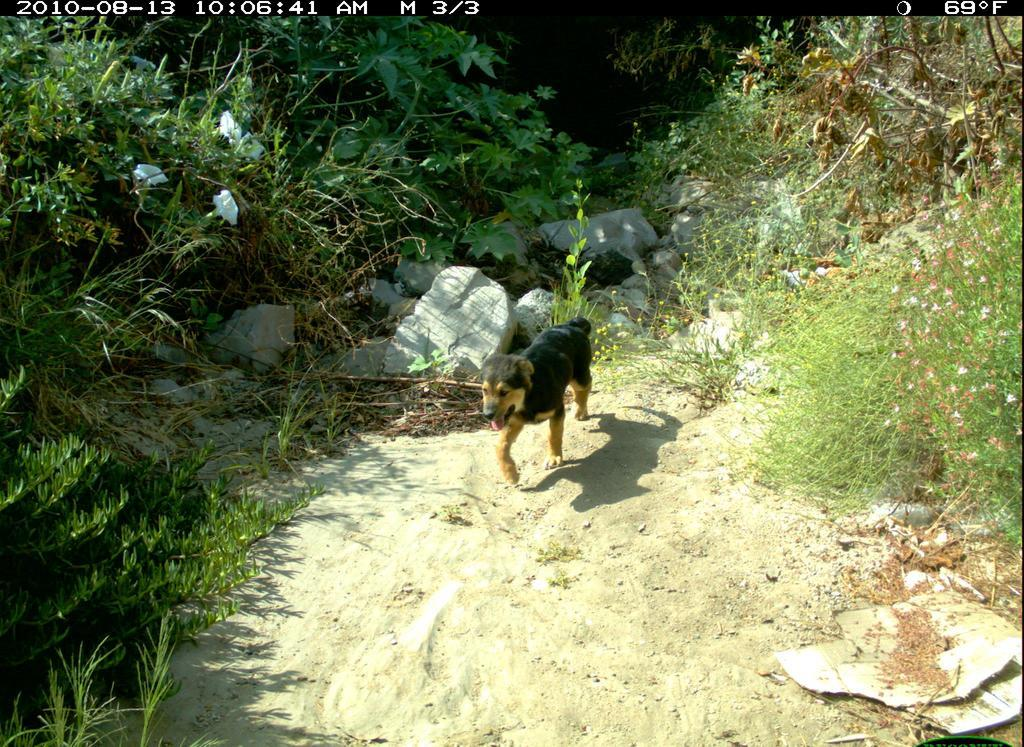dog: (468, 313, 602, 492)
